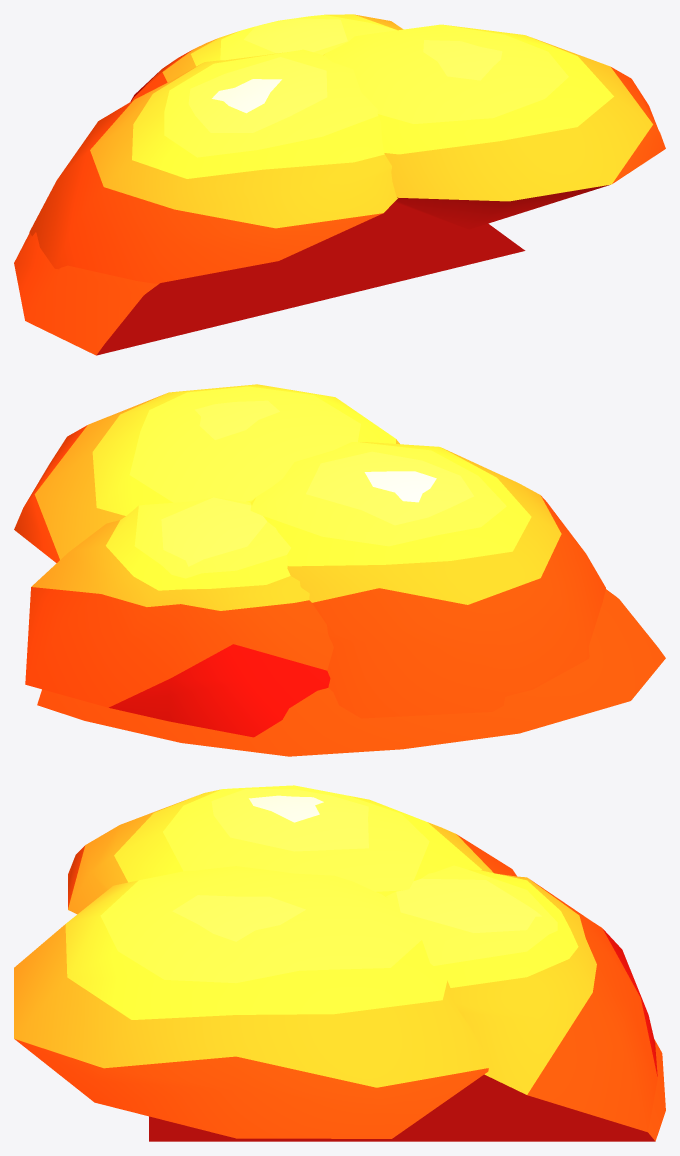
File: shot_zflame_173.glb
3 views of the same model, one above another, from view 1: azimuth 30°, elevation 25°; view 2: azimuth 150°, elevation 25°; view 3: azimuth 270°, elevation 25° (orthographic). The views are drawn at different scales.
Visible parts, largest first — view 1: zflame_1_billow0_b173, zflame_1_billow1_b173, zflame_1_bed_b173, zflame_1_billow3_b173; view 2: zflame_1_billow0_b173, zflame_1_billow3_b173, zflame_1_billow1_b173, zflame_1_bed_b173; view 3: zflame_1_billow1_b173, zflame_1_billow3_b173, zflame_1_billow0_b173, zflame_1_bed_b173.
Part boxes in pixels (x1,y1,x2,y2): zflame_1_billow0_b173: (29, 49, 397, 283); zflame_1_billow1_b173: (323, 24, 665, 229); zflame_1_bed_b173: (14, 202, 525, 355); zflame_1_billow3_b173: (130, 14, 403, 101); zflame_1_billow0_b173: (250, 442, 605, 718); zflame_1_billow3_b173: (25, 497, 333, 737); zflame_1_billow1_b173: (14, 384, 399, 563); zflame_1_bed_b173: (37, 589, 665, 756); zflame_1_billow1_b173: (14, 866, 488, 1138); zflame_1_billow3_b173: (386, 865, 657, 1132); zflame_1_billow0_b173: (68, 785, 517, 914); zflame_1_bed_b173: (149, 1039, 665, 1141).
Size of the model in its own units: 14.65 by 4.06 by 11.21.
